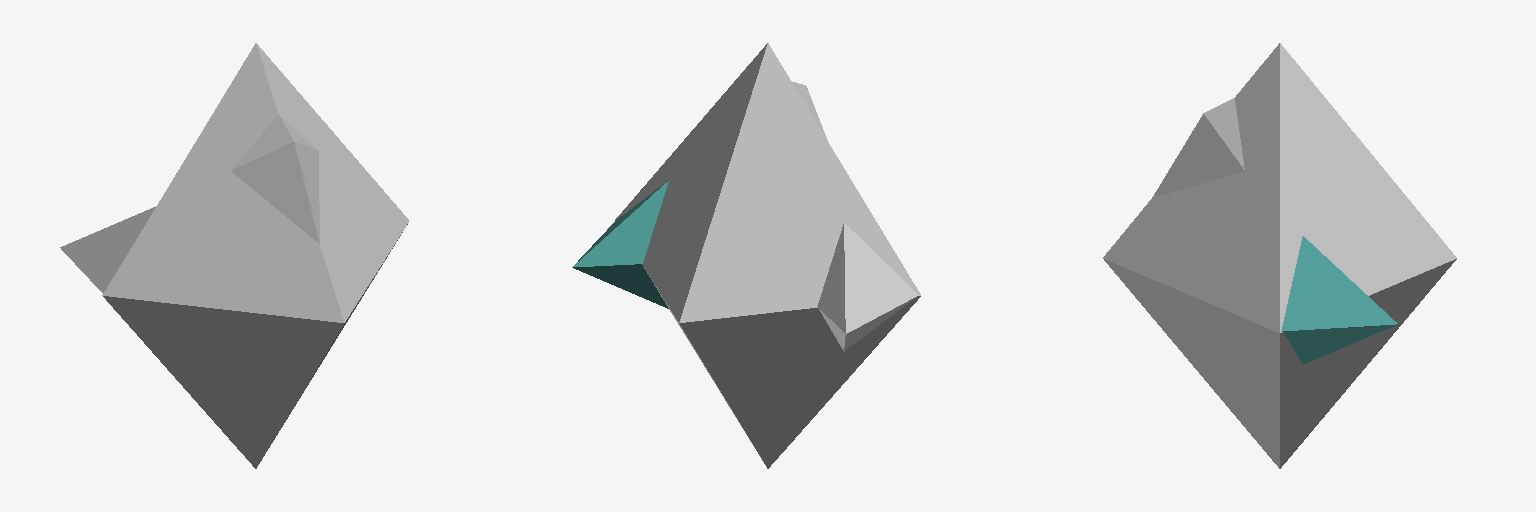
The picture shows the model from 3 angles: view 1: azimuth 30°, elevation 25°; view 2: azimuth 150°, elevation 25°; view 3: azimuth 270°, elevation 25°; orthographic projection.
Visible parts, largest first — view 1: Cube.002; view 2: Cube.002; view 3: Cube.002.
Boxes of the visible parts, box(x1,y1,x2,y2) form: Cube.002: box(60, 43, 408, 468); Cube.002: box(572, 43, 920, 468); Cube.002: box(1103, 43, 1456, 468).
Bounding box in the file's own units: 2.24 × 2.97 × 2.24.
4 materials, 1 textured.